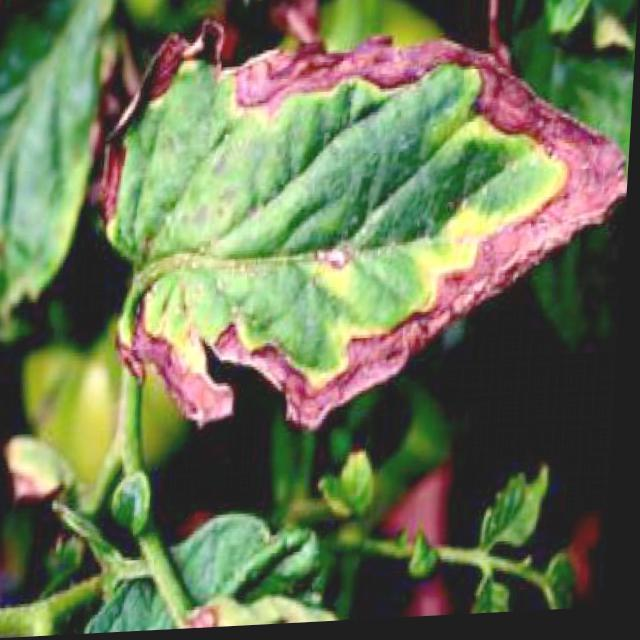Tomato late blight leaf: (96, 0, 637, 452)
